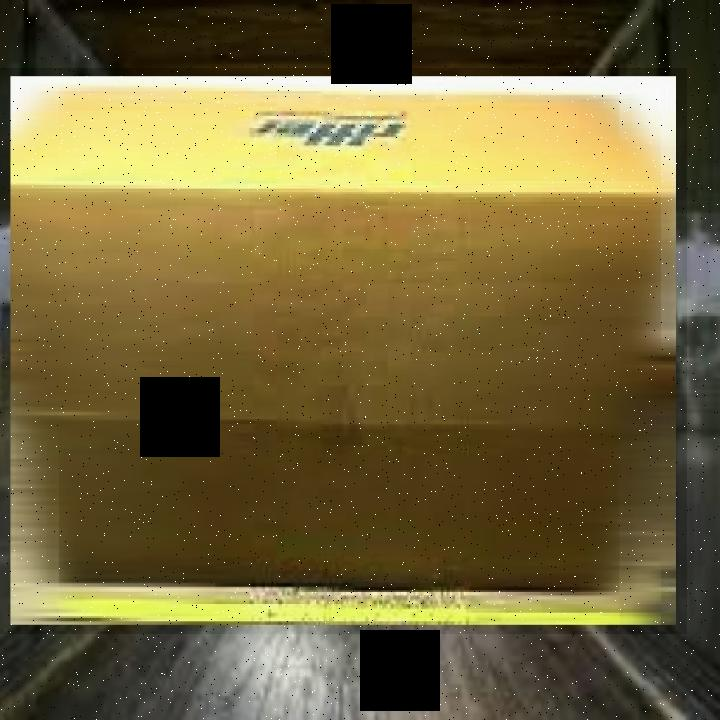box: (0, 68, 687, 634)
